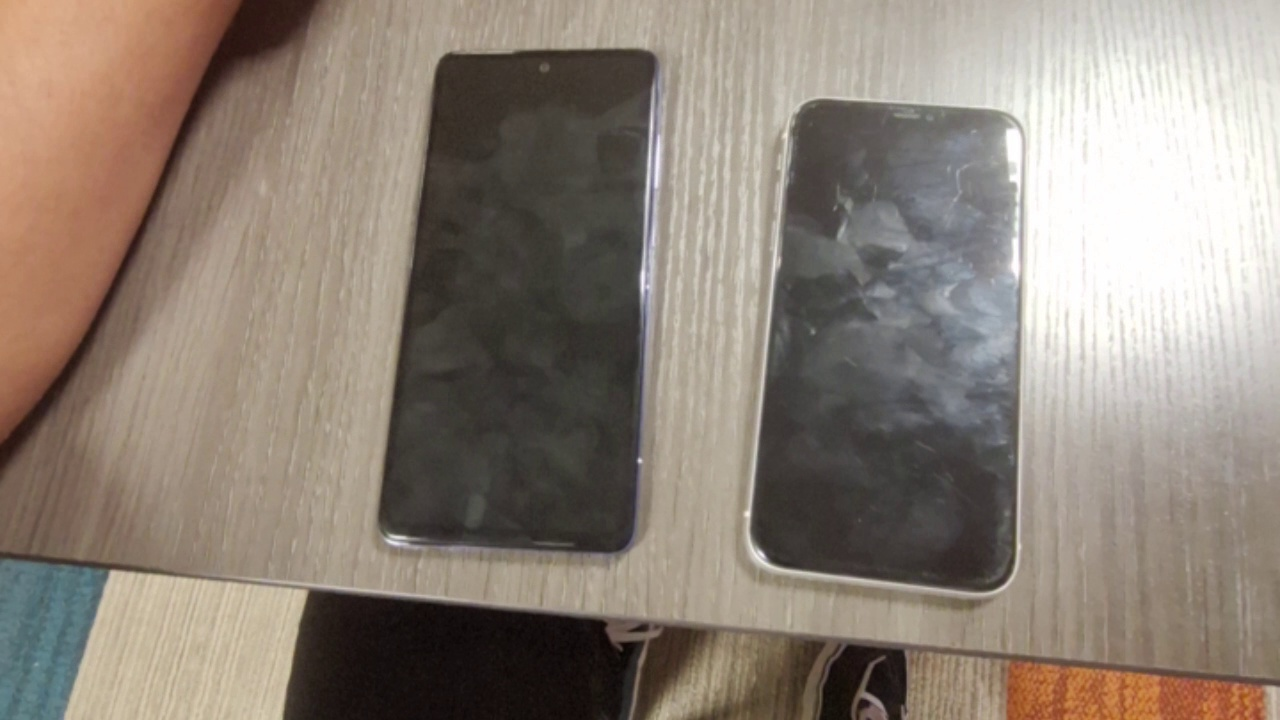celular: (374, 45, 661, 556)
